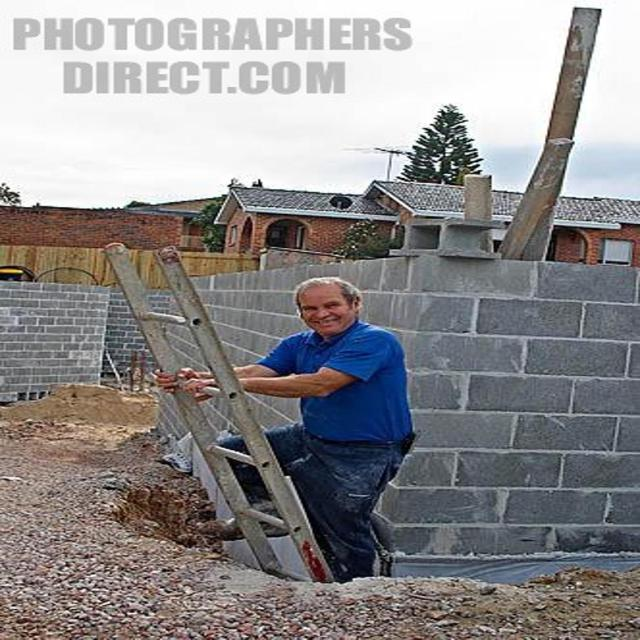Face: (291, 282, 365, 338)
